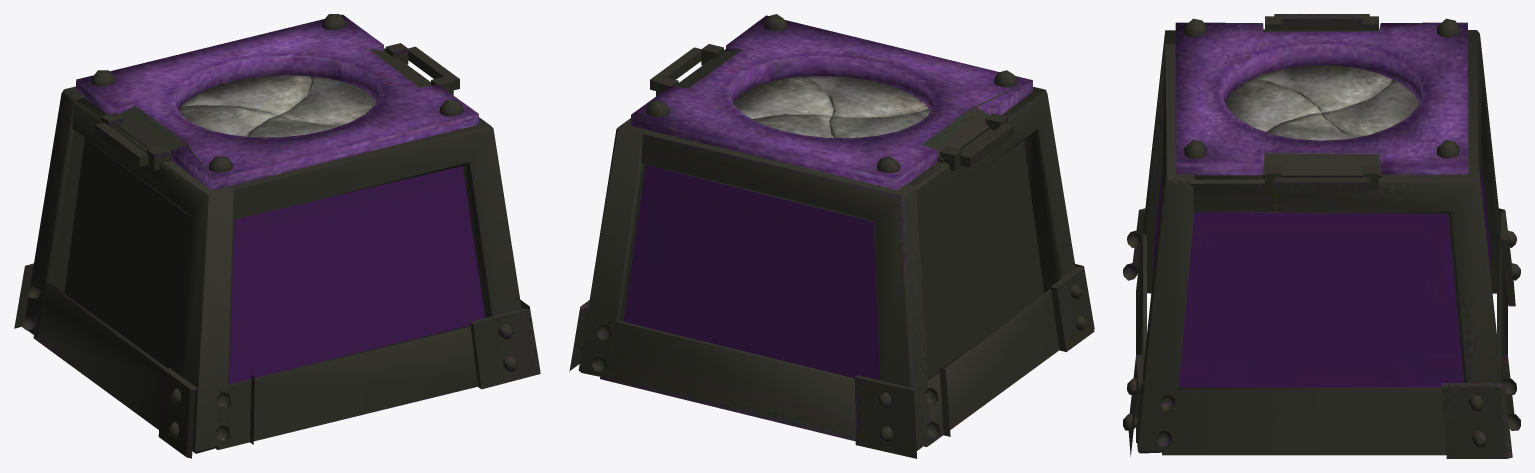
File: active-provider-chest.glb
The picture shows the model from 3 angles, left to right: view 1: azimuth 30°, elevation 25°; view 2: azimuth 150°, elevation 25°; view 3: azimuth 270°, elevation 25°; orthographic projection. The views are drawn at different scales.
Visible parts, largest first — view 1: body; view 2: body; view 3: body.
Part boxes in pixels (<box>): body: <box>14,14,540,458</box>; body: <box>569,14,1094,458</box>; body: <box>1123,14,1520,458</box>.
Size of the model in its own units: 1.02 by 0.7135 by 0.9.
1 material, 1 textured.
